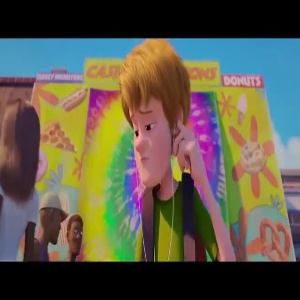Shagy: (112, 41, 205, 187)
